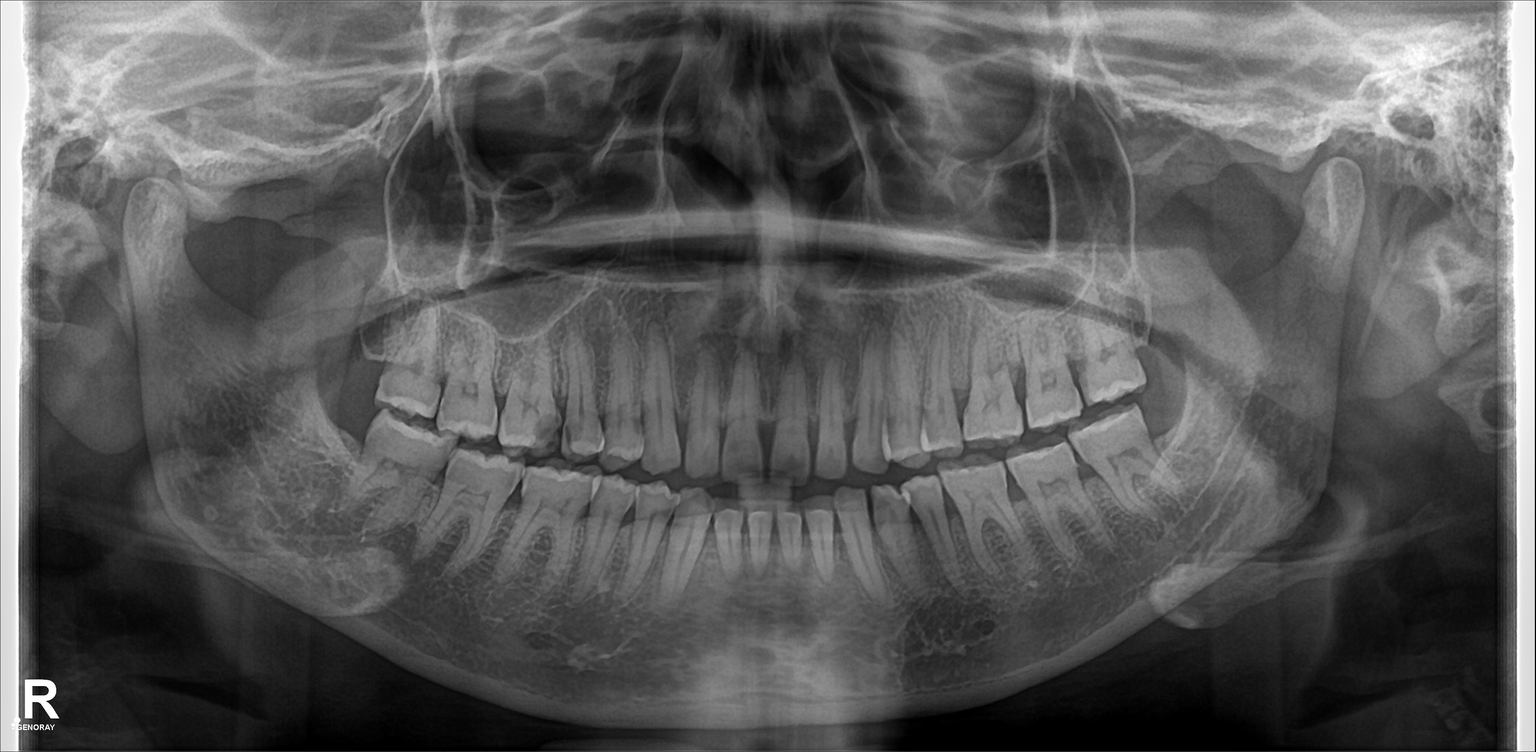Dental Caries: (534, 415, 568, 454)
Missing Tooth: (337, 294, 387, 399), (313, 404, 361, 490)
